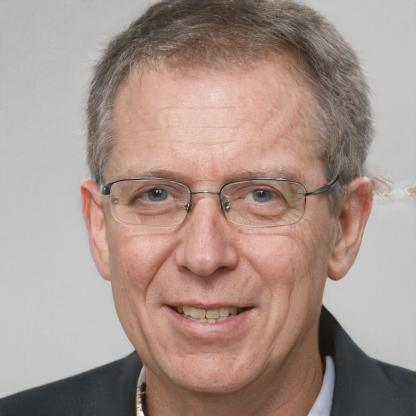glasses: (100, 171, 320, 230)
